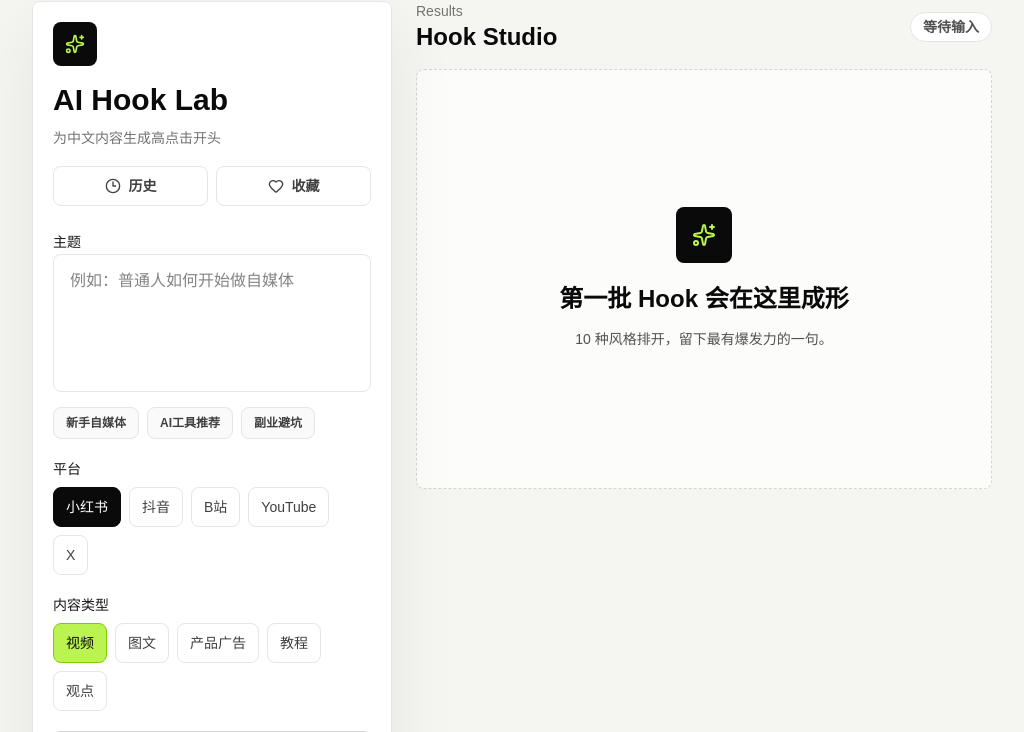
AiHookLabApp › shows the configured API key error returned by the server
The image size is (1024, 732).
Step 1. Type "普通人如何开始做自媒体" into the text box labelled "主题" → (212,323), box [53, 254, 371, 392]
(page scrolled)
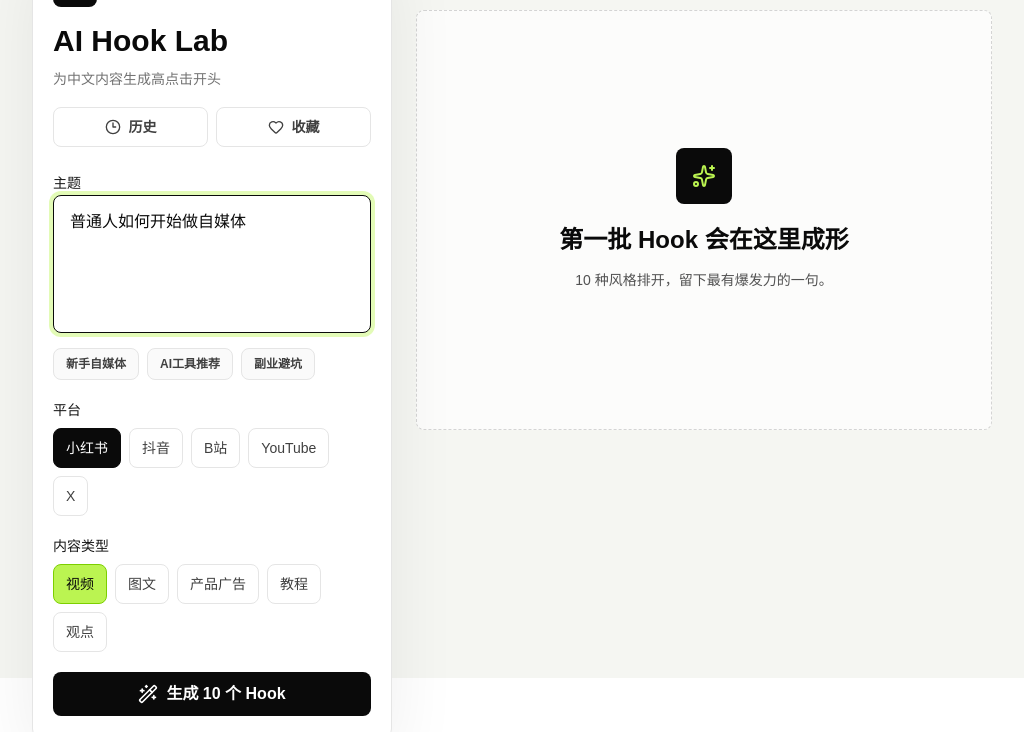
Step 2. Click the button "生成 10 个 Hook" → (212,694), box [53, 672, 371, 716]
(page scrolled)
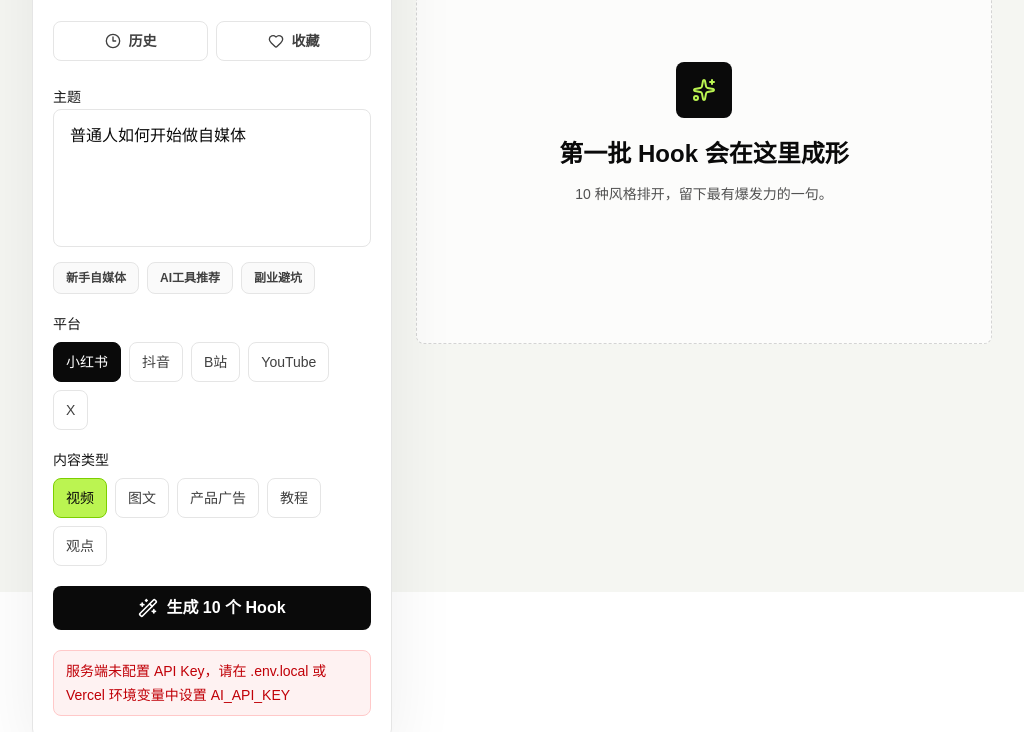
Now the text "服务端未配置 API Key，请在 .env.local 或 Vercel 环境变量中设置 AI_API_KEY" is shown, box [53, 650, 371, 716]
